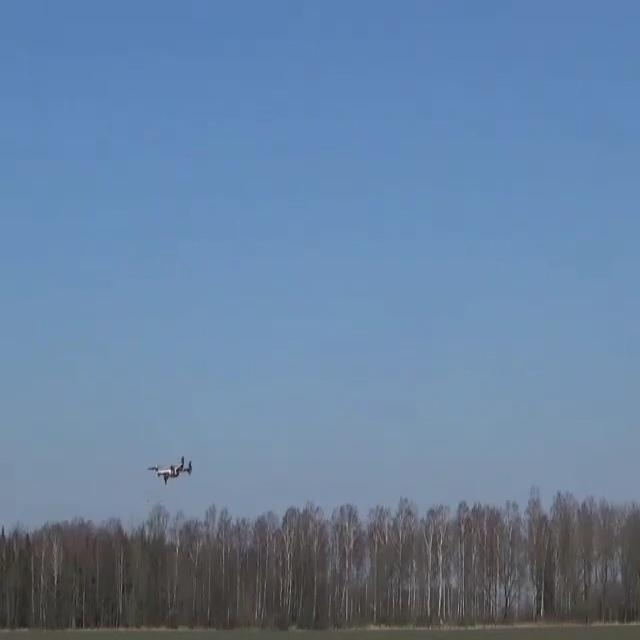drone: (147, 455, 192, 485)
